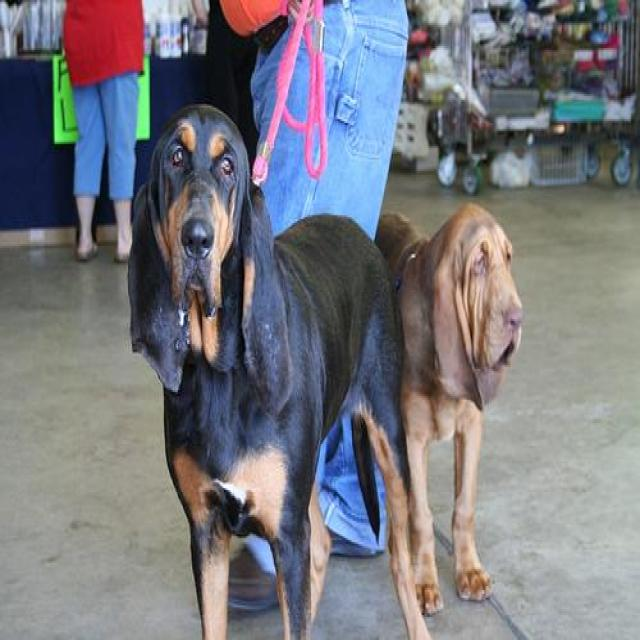bloodhound: (128, 104, 431, 638), (378, 202, 524, 613)
